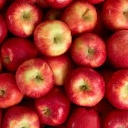apple: (2, 106, 40, 128)
